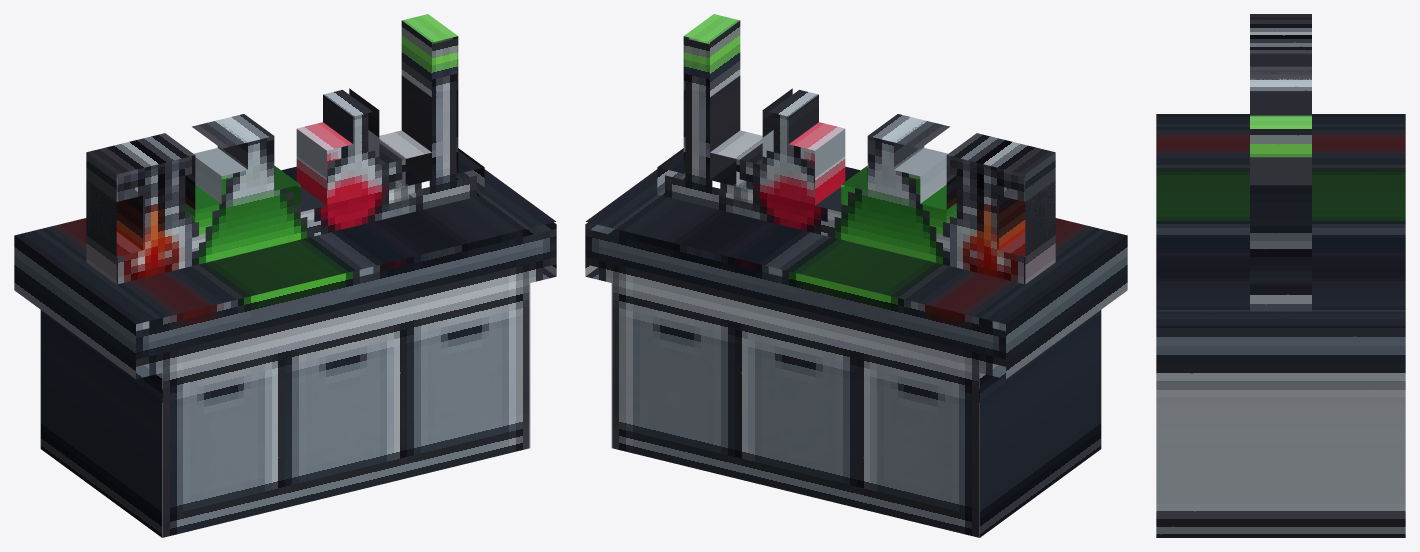
Rendered from labbench.obj.
3 renders of one model, left to right at view 1: azimuth 30°, elevation 25°; view 2: azimuth 150°, elevation 25°; view 3: azimuth 270°, elevation 25°, orthographic. The views are drawn at different scales.
Bounding box in the file's own units: 0.436 × 0.3814 × 0.218.
